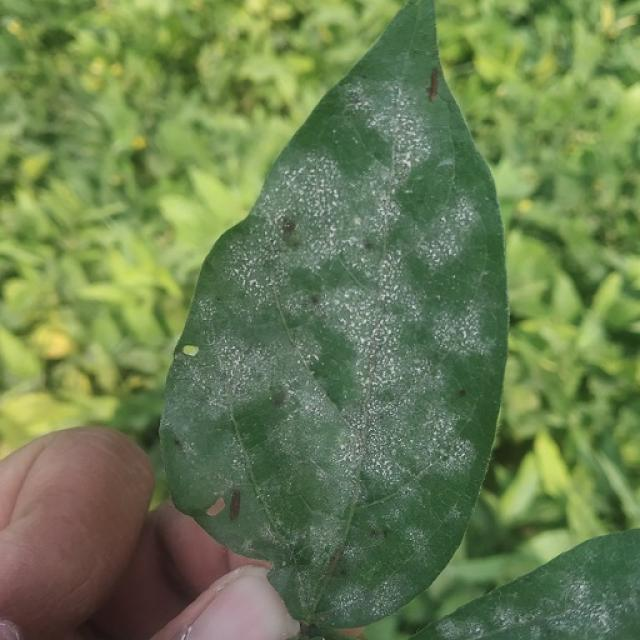Blackgram: (160, 1, 508, 629)
Powdery_Mildew: (222, 97, 481, 506), (334, 232, 433, 403), (214, 201, 315, 331), (274, 152, 378, 277), (365, 378, 473, 490), (409, 254, 491, 366), (357, 88, 435, 191), (405, 190, 483, 286), (200, 328, 284, 406), (538, 564, 627, 636), (340, 560, 426, 622), (277, 400, 343, 478), (357, 325, 410, 389), (213, 333, 261, 380), (366, 262, 406, 312), (434, 613, 501, 640), (323, 586, 371, 622), (364, 444, 401, 483), (486, 603, 533, 632), (365, 596, 394, 621), (593, 608, 612, 630), (468, 624, 482, 636), (460, 328, 469, 340), (248, 278, 258, 288), (352, 216, 362, 226), (403, 187, 413, 195), (232, 458, 238, 465), (332, 128, 338, 135)
